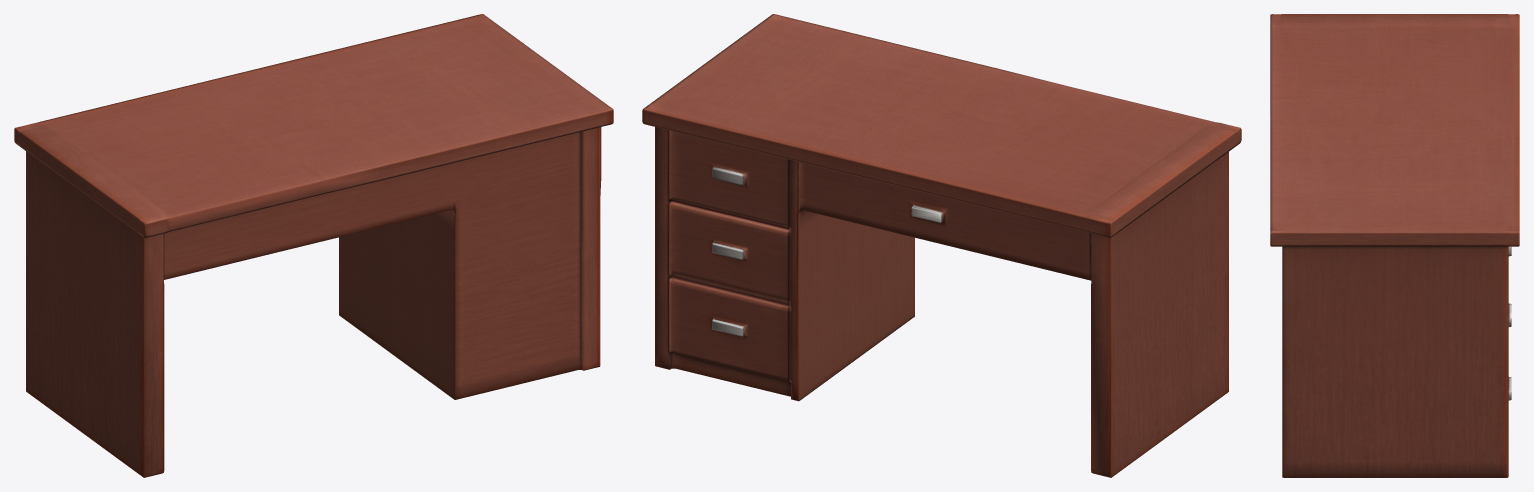
Rendered from office-desk-v67.glb.
3 renders of one model, left to right at view 1: azimuth 30°, elevation 25°; view 2: azimuth 150°, elevation 25°; view 3: azimuth 270°, elevation 25°, orthographic. The views are drawn at different scales.
Visible parts, largest first — view 1: office-desk-body; view 2: office-desk-body, office-desk-drawer-front; view 3: office-desk-body.
Part boxes in pixels (bbox=[...]): office-desk-body: bbox=[14, 14, 613, 477]; office-desk-body: bbox=[642, 14, 1241, 477]; office-desk-drawer-front: bbox=[806, 164, 1091, 280]; office-desk-body: bbox=[1270, 14, 1519, 477].
Size of the model in its own units: 1.84 by 0.985 by 0.8911.
Materials: 1 (1 with a texture image).
